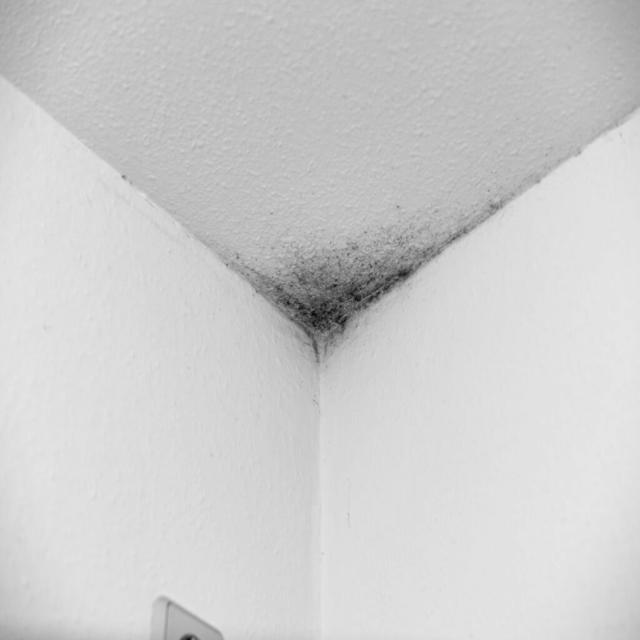stain marks: (205, 197, 471, 372)
